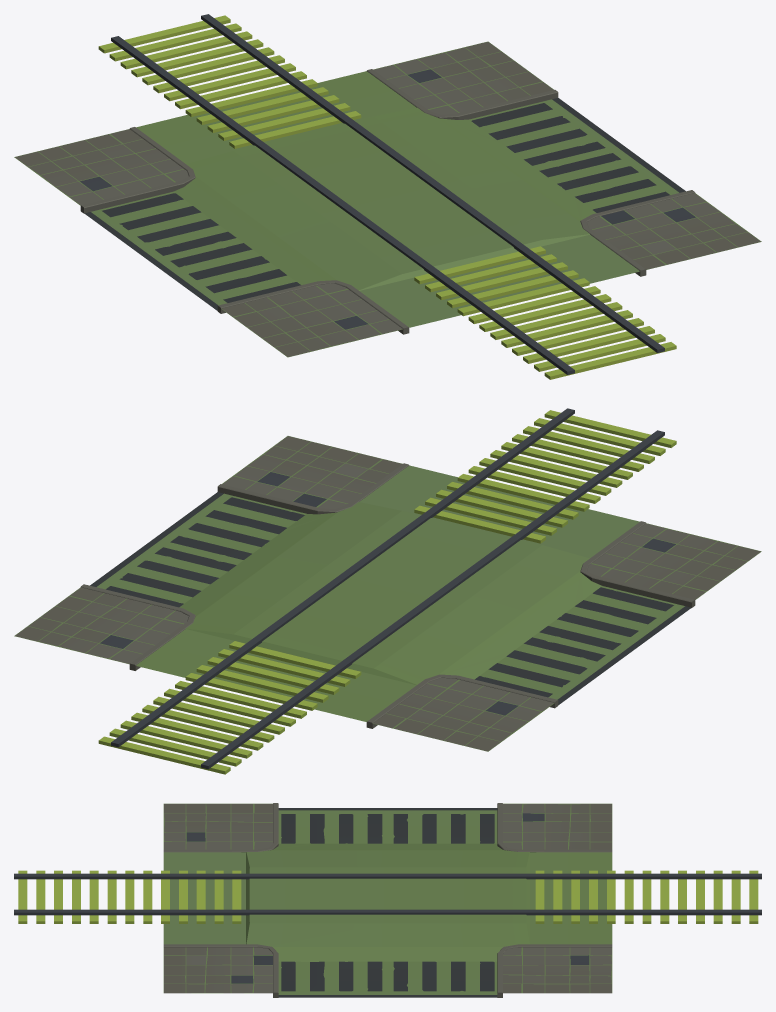
Rendered from Road_48.fbx.
3 renders of one model, top to bottom at view 1: azimuth 30°, elevation 25°; view 2: azimuth 150°, elevation 25°; view 3: azimuth 270°, elevation 25°, orthographic. The views are drawn at different scales.
Parts seen in each view (by area): view 1: Road_48; view 2: Road_48; view 3: Road_48.
Part boxes in pixels (box(x1,y1,x2,y2)): Road_48: box(14, 14, 761, 379); Road_48: box(14, 408, 761, 774); Road_48: box(14, 803, 761, 997).
Size of the model in its own units: 12 by 0.2892 by 20.
